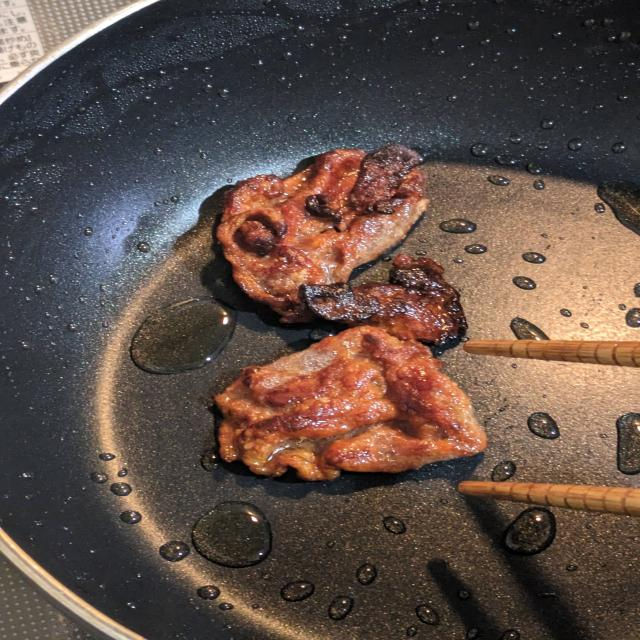overcooked pork: (200, 316, 512, 489), (211, 138, 442, 333), (293, 248, 471, 348)
